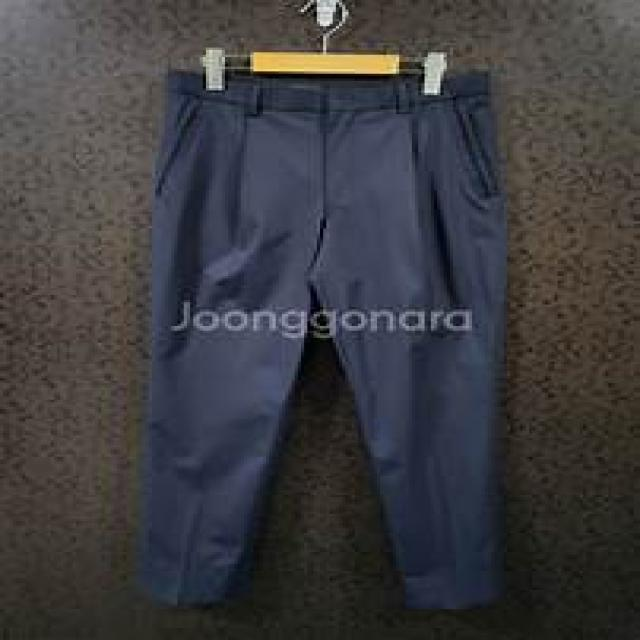long-pants: (127, 69, 510, 608)
